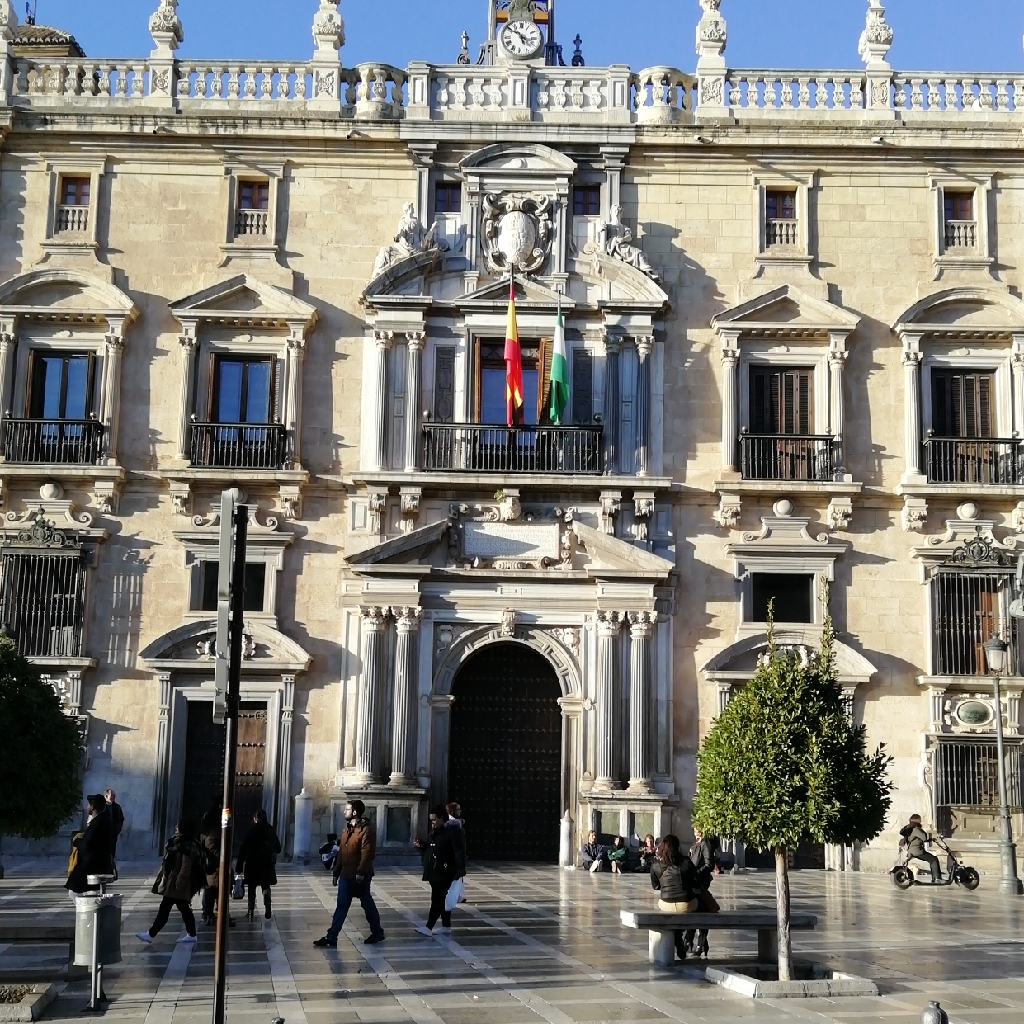arco-medio-punto: (433, 628, 576, 716)
fronton: (705, 284, 867, 337), (165, 272, 316, 325), (456, 271, 574, 314)
fronton-curvo: (138, 613, 311, 678), (699, 625, 876, 687), (1, 267, 138, 325), (890, 288, 1022, 338), (456, 139, 579, 178)
fronton-partido: (344, 516, 676, 586), (360, 241, 668, 316)
vano-adintelado: (151, 664, 293, 894), (174, 328, 301, 472), (717, 342, 841, 482), (900, 347, 1018, 490), (4, 327, 125, 464), (455, 319, 568, 463)
